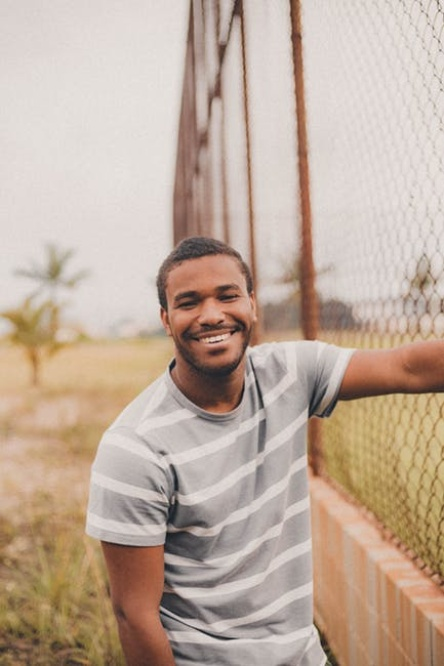face: (168, 255, 250, 374)
